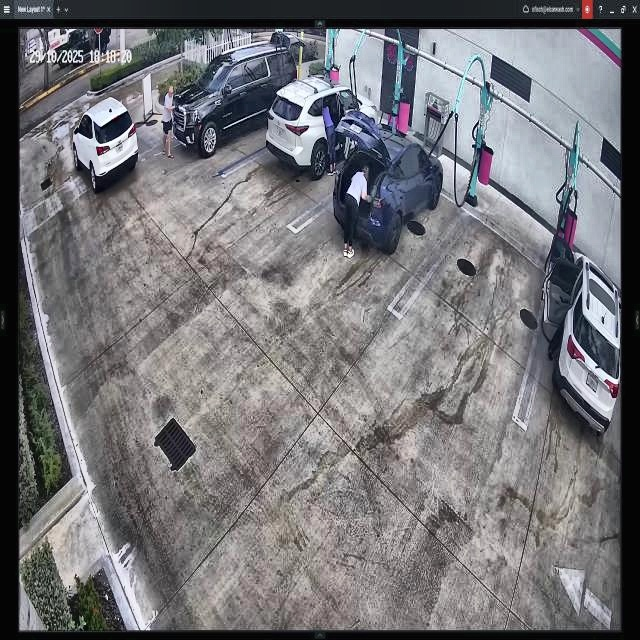Car: (332, 112, 444, 253), (171, 46, 297, 157), (267, 76, 377, 175), (73, 98, 138, 191)
